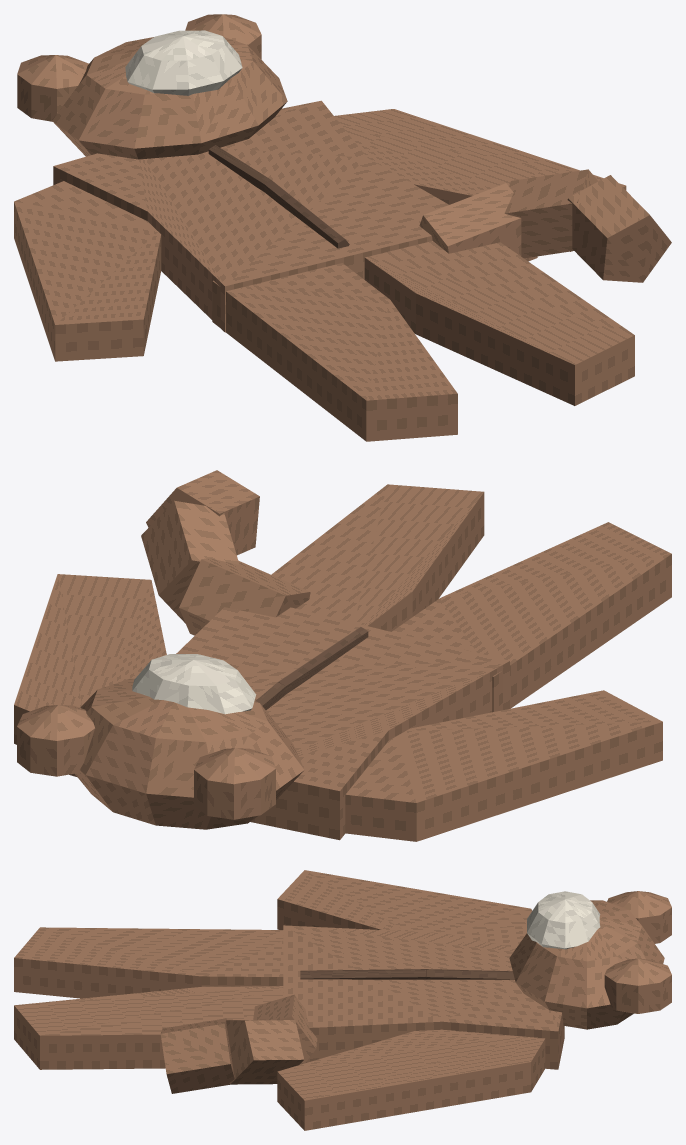
Rendered from fursuit.glb.
The picture shows the model from 3 angles, top to bottom: view 1: azimuth 30°, elevation 25°; view 2: azimuth 150°, elevation 25°; view 3: azimuth 270°, elevation 25°; orthographic projection. The views are drawn at different scales.
Visible parts, largest first — view 1: block_leg (×2), block_one-piece torso, block_sleeve (×2), block_animal costume hood, block_fur tail 2, block_light snout, block_rounded costume ear (×2), block_fur tail 1, block_fur tail 0, block_body zip 1, block_body zip 0; view 2: block_leg (×2), block_sleeve (×2), block_one-piece torso, block_animal costume hood, block_rounded costume ear (×2), block_fur tail 1, block_fur tail 0, block_light snout, block_fur tail 2, block_body zip 1; view 3: block_leg (×2), block_sleeve (×2), block_one-piece torso, block_animal costume hood, block_rounded costume ear (×2), block_fur tail 2, block_fur tail 1, block_light snout, block_fur tail 0, block_body zip 1, block_body zip 0.
Part boxes in pixels (x1,y1,x2,y2): block_leg (×2): [212, 241, 634, 441]; block_one-piece torso: [53, 100, 448, 332]; block_sleeve (×2): [14, 109, 626, 361]; block_animal costume hood: [52, 37, 287, 159]; block_fur tail 2: [567, 175, 671, 282]; block_light snout: [125, 30, 242, 95]; block_rounded costume ear (×2): [17, 14, 261, 121]; block_fur tail 1: [504, 169, 598, 258]; block_fur tail 0: [419, 183, 537, 261]; block_body zip 1: [264, 180, 349, 248]; block_body zip 0: [208, 145, 271, 191]; block_leg (×2): [271, 484, 671, 712]; block_sleeve (×2): [14, 574, 662, 841]; block_one-piece torso: [69, 607, 509, 840]; block_animal costume hood: [75, 678, 304, 829]; block_rounded costume ear (×2): [17, 705, 275, 819]; block_fur tail 1: [141, 500, 239, 623]; block_fur tail 0: [179, 558, 310, 635]; block_light snout: [132, 654, 256, 714]; block_fur tail 2: [146, 470, 259, 555]; block_body zip 1: [278, 627, 368, 694]; block_leg (×2): [14, 927, 306, 1069]; block_sleeve (×2): [277, 870, 545, 1130]; block_one-piece torso: [283, 925, 564, 1069]; block_animal costume hood: [509, 900, 664, 1029]; block_rounded costume ear (×2): [604, 891, 671, 1013]; block_fur tail 2: [160, 1018, 235, 1093]; block_fur tail 1: [226, 1019, 304, 1084]; block_light snout: [527, 891, 600, 949]; block_fur tail 0: [253, 994, 317, 1064]; block_body zip 1: [300, 969, 425, 979]; block_body zip 0: [426, 969, 514, 979].
Bounding box in the file's own units: 0.9913 × 0.2501 × 1.2.
Materials: 1 (1 with a texture image).
